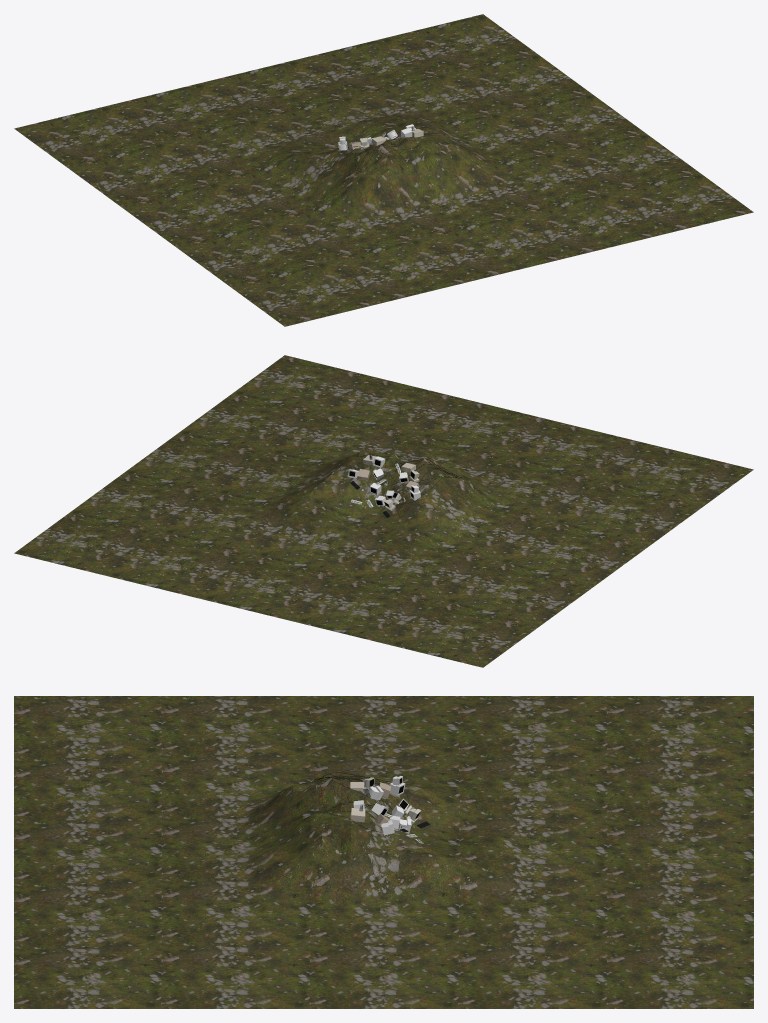
File: portfolio-model_003optimizedv1.glb
3 renders of one model, top to bottom at view 1: azimuth 30°, elevation 25°; view 2: azimuth 150°, elevation 25°; view 3: azimuth 270°, elevation 25°, orthographic. The views are drawn at different scales.
Visible parts, largest first — view 1: Landscape.001; view 2: Landscape.001; view 3: Landscape.001, BézierCurve.001.
Boxes of the visible parts, box(x1,y1,x2,y2) form: Landscape.001: box(14, 14, 753, 326); Landscape.001: box(14, 355, 753, 667); Landscape.001: box(14, 696, 753, 1008); BézierCurve.001: box(313, 772, 408, 832).
Size of the model in its own units: 125 by 11.43 by 125.
Materials: 11 (4 with a texture image).
